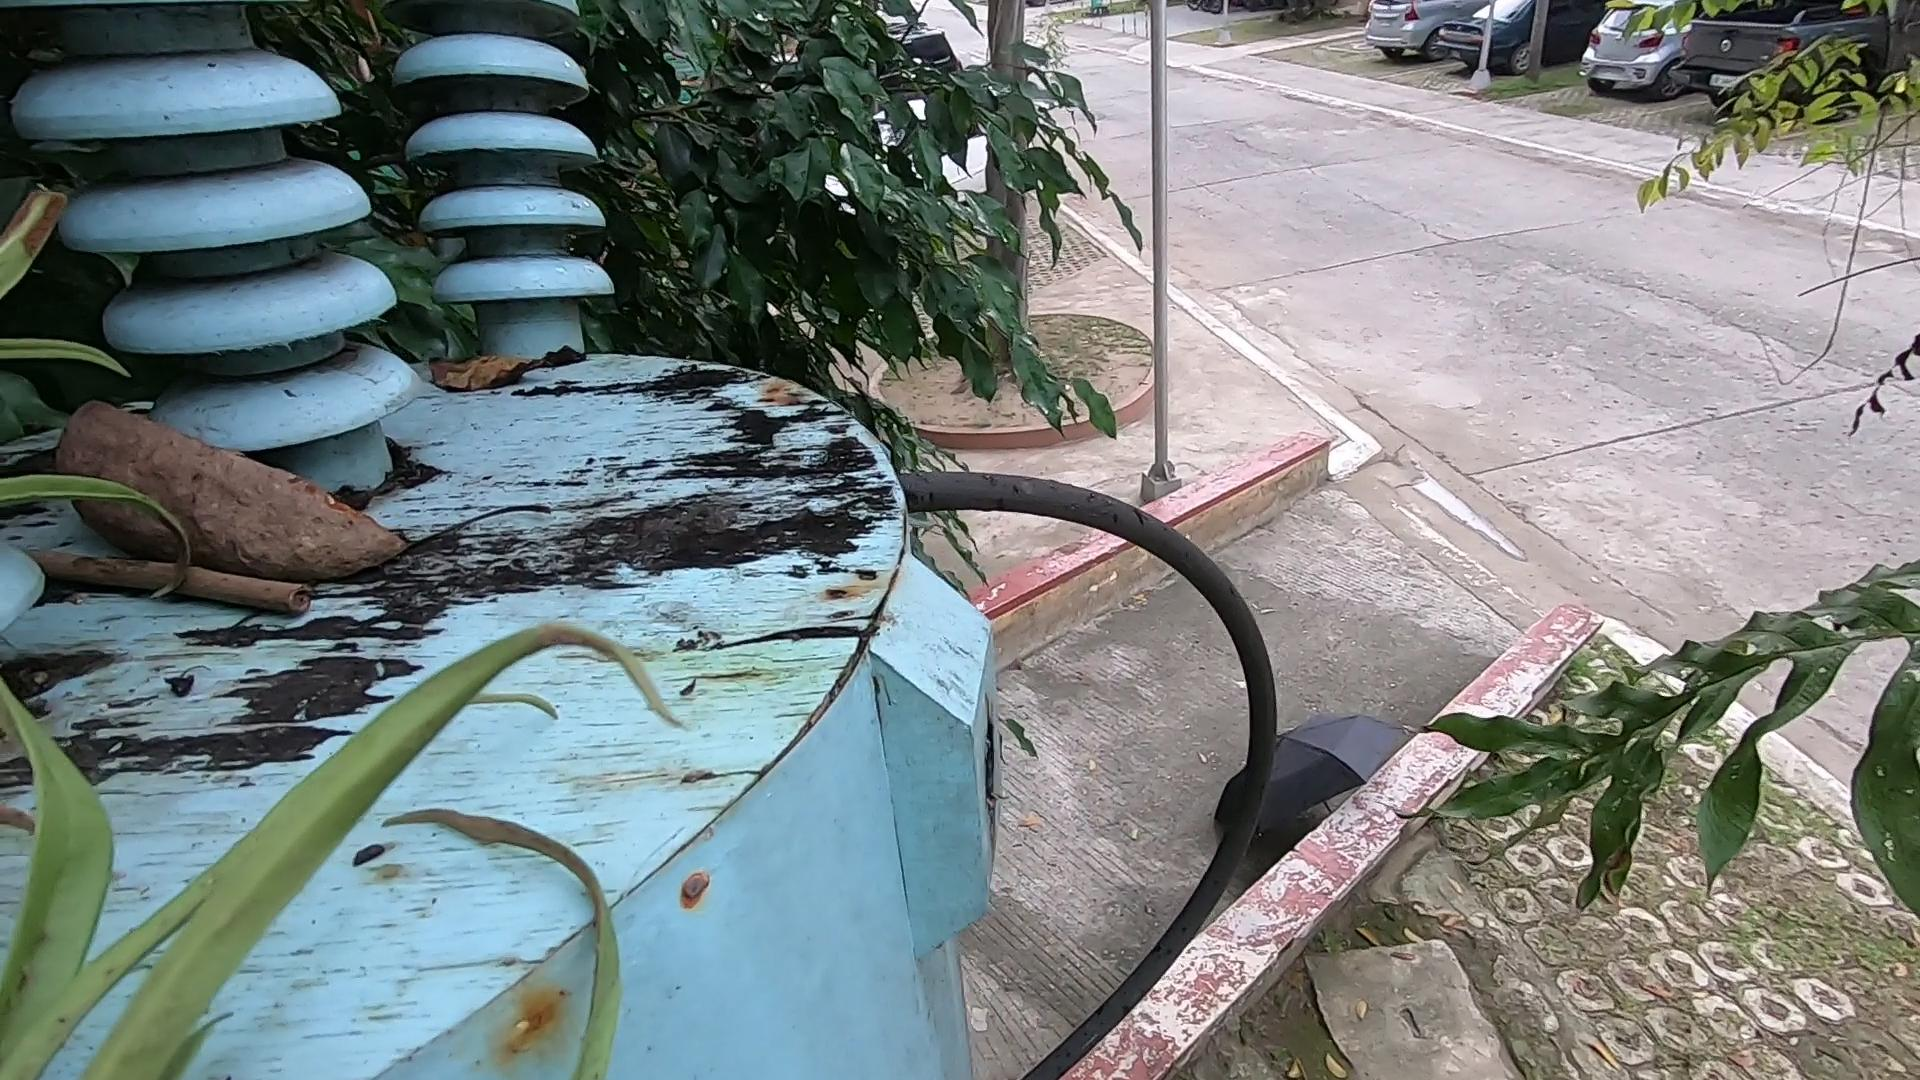leaf: (8, 680, 727, 1067), (414, 351, 632, 429)
mahogany fruit: (76, 396, 426, 593)
tree branch: (7, 524, 381, 640)
